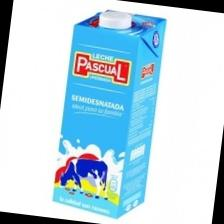Kertas: (52, 10, 165, 217), (53, 10, 165, 218)
